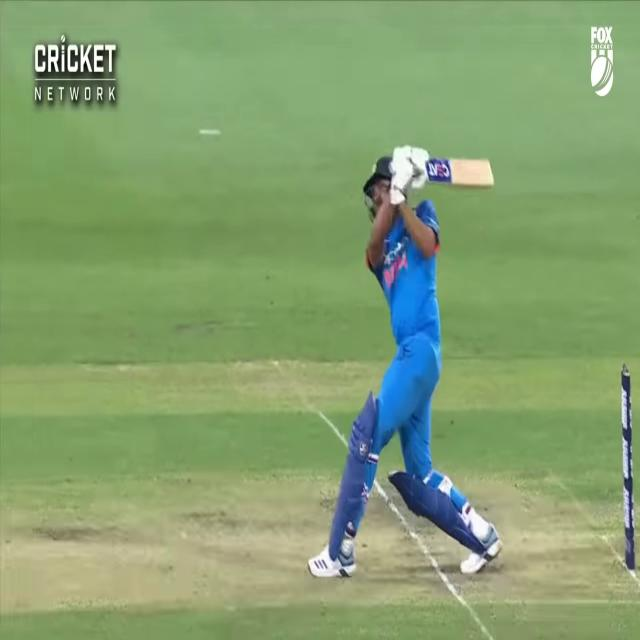stump: (622, 361, 634, 568)
